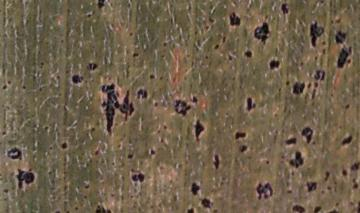tarspot: (96, 81, 136, 137), (306, 17, 326, 49), (250, 20, 272, 45), (252, 179, 275, 202), (15, 167, 37, 190), (335, 44, 353, 68), (171, 97, 190, 119), (191, 116, 205, 143), (288, 148, 305, 170), (227, 9, 243, 31), (6, 145, 25, 162), (187, 177, 202, 198), (290, 78, 306, 97), (244, 94, 258, 115), (266, 56, 282, 74), (300, 126, 314, 145), (135, 85, 150, 102), (128, 170, 147, 183), (93, 201, 112, 213), (333, 29, 348, 44), (312, 68, 329, 81), (339, 133, 354, 147), (282, 135, 298, 148), (211, 151, 222, 169), (70, 72, 84, 86), (199, 196, 214, 209), (233, 129, 248, 142), (290, 201, 306, 213), (305, 180, 319, 193), (279, 1, 291, 16), (83, 61, 98, 72), (237, 143, 250, 155), (242, 47, 254, 60), (311, 202, 324, 213), (339, 168, 350, 180), (125, 150, 137, 161), (184, 203, 197, 213), (95, 1, 106, 12), (147, 71, 158, 82), (58, 140, 70, 150), (351, 180, 360, 193), (351, 161, 360, 173), (146, 147, 158, 156), (190, 93, 199, 104)
